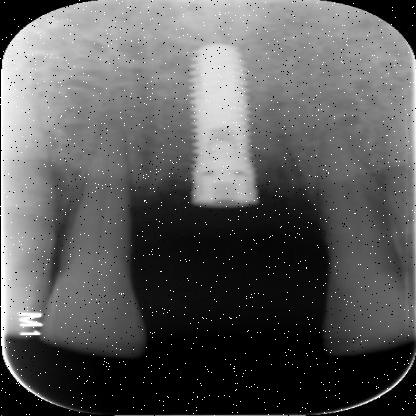Bego: (188, 40, 260, 213)
